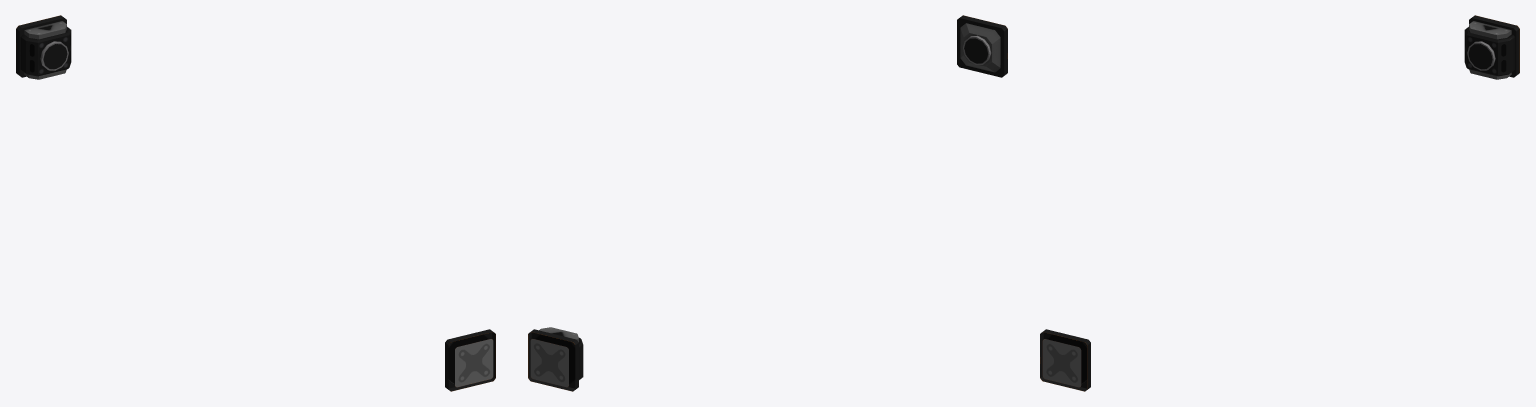
Rendered from obj_interactive_piston_on.fbx.
3 renders of one model, left to right at view 1: azimuth 30°, elevation 25°; view 2: azimuth 150°, elevation 25°; view 3: azimuth 330°, elevation 25°, orthographic.
Visible parts, largest first — view 1: obj_interactive_piston_on_lod0; view 2: obj_interactive_piston_on_lod0; view 3: obj_interactive_piston_on_lod0.
Part boxes in pixels (box(x1,y1,x2,y2)): obj_interactive_piston_on_lod0: box(16, 15, 495, 391); obj_interactive_piston_on_lod0: box(528, 15, 1007, 391); obj_interactive_piston_on_lod0: box(1040, 15, 1519, 391).
Size of the model in its own units: 1 by 1 by 16.
